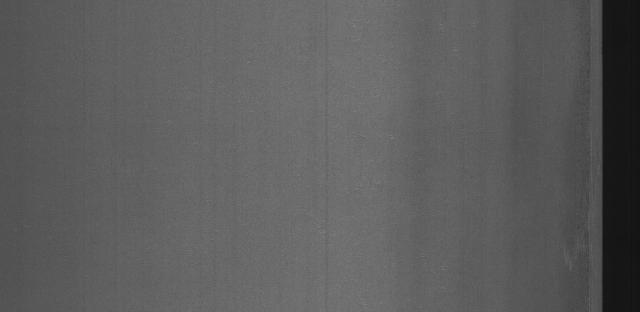silk_spot: (564, 81, 598, 277)
